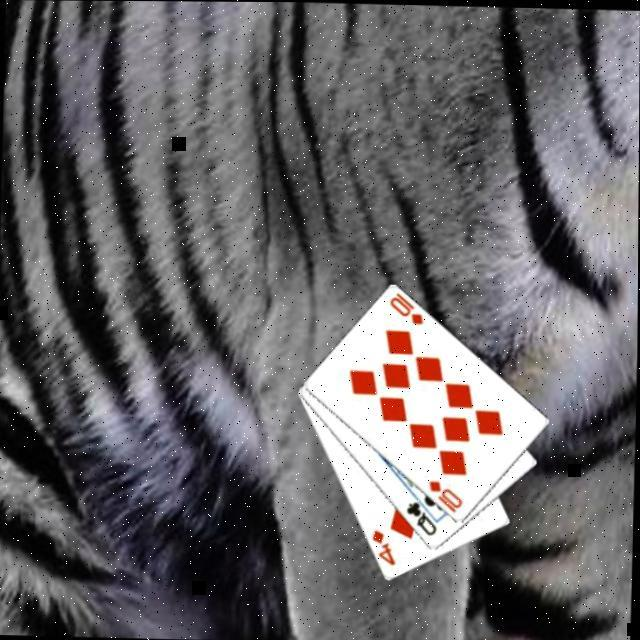10D: (428, 476, 468, 515), (388, 287, 428, 326)
4D: (370, 524, 401, 566)
QC: (404, 496, 443, 536)
